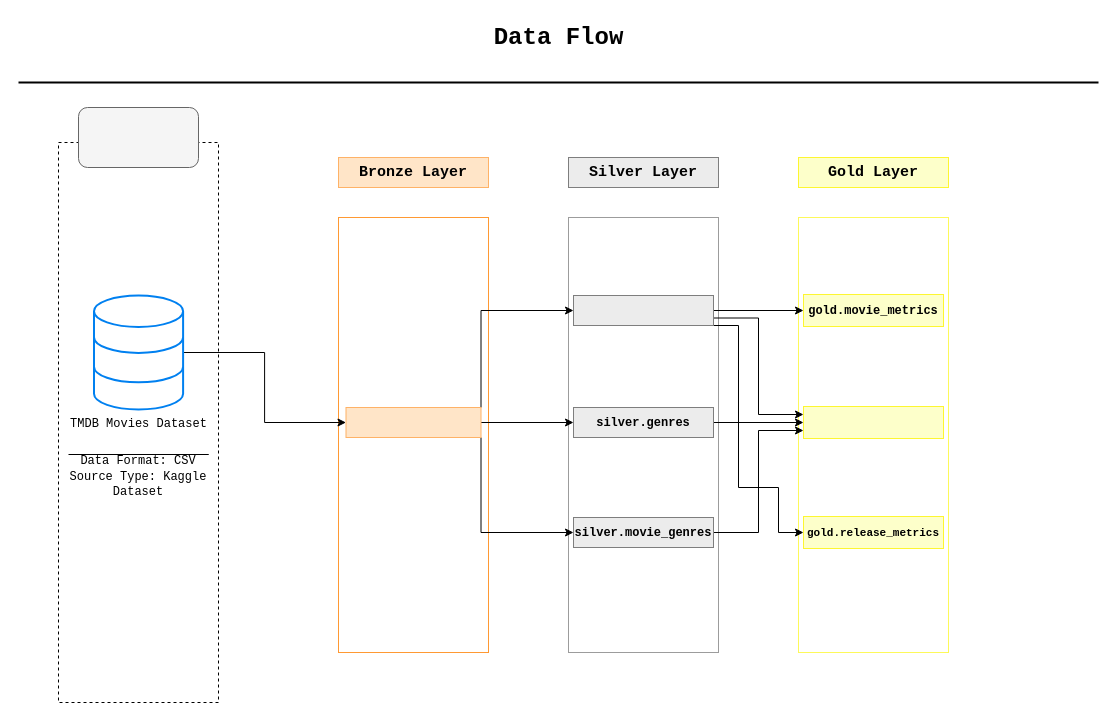
The diagram is 1116 pixels wide and 720 high, and some of its shapes have lost their labels. The centre of each missing label's shape, as x and y in pixels:
bronze.tmdb_movies: (x=413, y=422)
gold.genre_metrics: (x=873, y=422)
silver.movies: (x=643, y=310)
Sources: (x=138, y=137)
